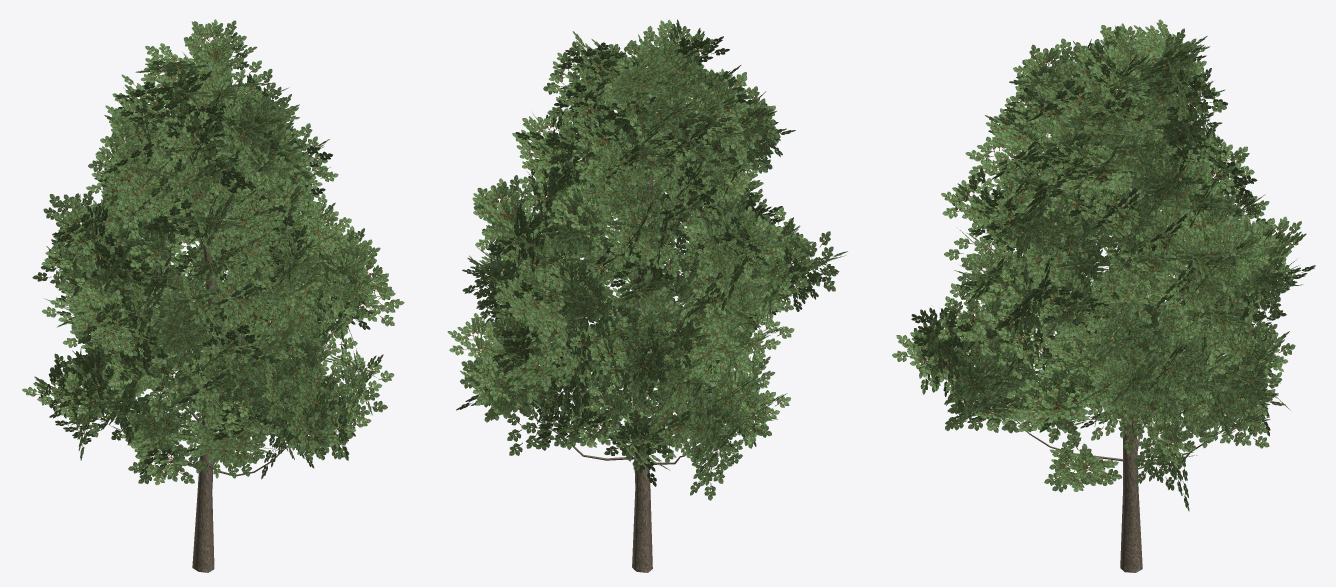
The model's file is Fagus_Sylvatica_Spring_Young.glb.
The picture shows the model from 3 angles, left to right: view 1: azimuth 30°, elevation 25°; view 2: azimuth 150°, elevation 25°; view 3: azimuth 270°, elevation 25°; orthographic projection. The views are drawn at different scales.
Visible parts, largest first — view 1: Fagus_Sylvatica_Spring_Young__LOD3; view 2: Fagus_Sylvatica_Spring_Young__LOD3; view 3: Fagus_Sylvatica_Spring_Young__LOD3.
Part boxes in pixels (x1=…): Fagus_Sylvatica_Spring_Young__LOD3: x1=22, y1=19, x2=404, y2=572; Fagus_Sylvatica_Spring_Young__LOD3: x1=447, y1=19, x2=847, y2=572; Fagus_Sylvatica_Spring_Young__LOD3: x1=892, y1=19, x2=1315, y2=572.
Size of the model in its own units: 8.13 by 12 by 8.62.
2 materials, 2 textured.
